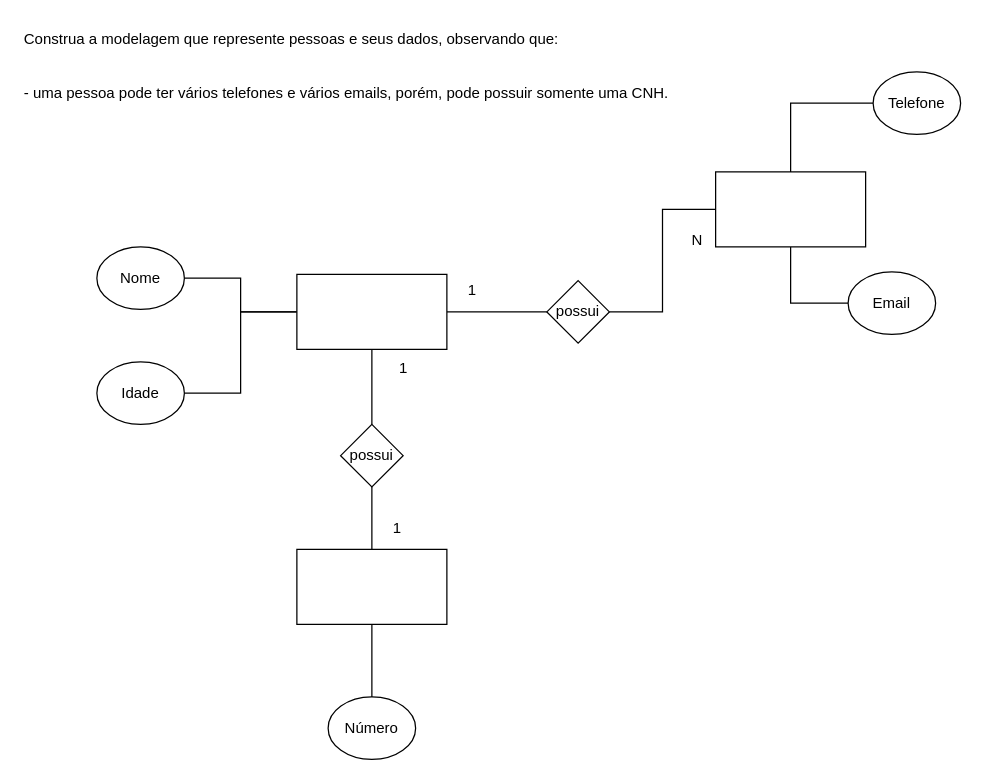
Image size: 983x781. Some labels were removed from this diagram. The centre of each missing label's shape, as x and y in pixels:
"CNH" goes at (371,586).
"Contatos" goes at (790,209).
"Pessoa" goes at (371,311).
